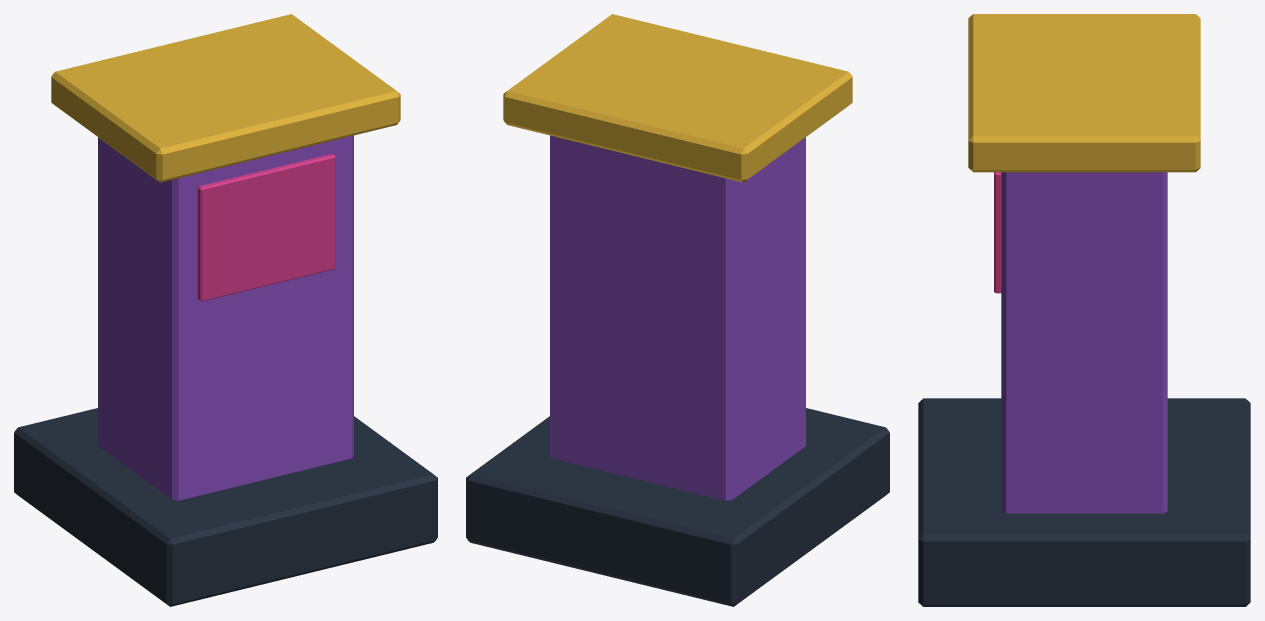
The model's file is podium.glb.
3 renders of one model, left to right at view 1: azimuth 30°, elevation 25°; view 2: azimuth 150°, elevation 25°; view 3: azimuth 270°, elevation 25°, orthographic. The views are drawn at different scales.
Visible parts, largest first — view 1: podium_Body; view 2: podium_Body; view 3: podium_Body.
Boxes of the visible parts, x1,y1,x2,y2 form: podium_Body: (14, 14, 437, 606); podium_Body: (466, 14, 889, 606); podium_Body: (918, 14, 1250, 606).
Bounding box in the file's own units: 1 × 1.54 × 1.
